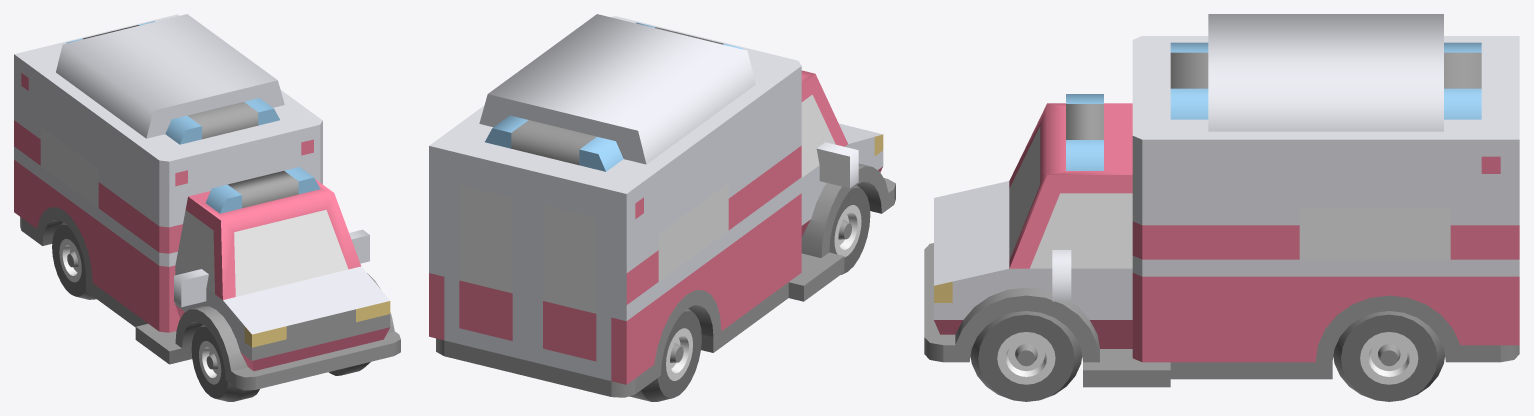
File: ambulance_2.fbx
The picture shows the model from 3 angles, left to right: view 1: azimuth 30°, elevation 25°; view 2: azimuth 150°, elevation 25°; view 3: azimuth 270°, elevation 25°; orthographic projection. The views are drawn at different scales.
Parts seen in each view (by area): view 1: wheel_frontRight; view 2: wheel_frontRight; view 3: wheel_frontRight.
Part boxes in pixels (bbox=[...]): wheel_frontRight: bbox=[14, 14, 400, 401]; wheel_frontRight: bbox=[429, 14, 895, 401]; wheel_frontRight: bbox=[924, 14, 1519, 401].
Bounding box in the file's own units: 150 × 180 × 315.
